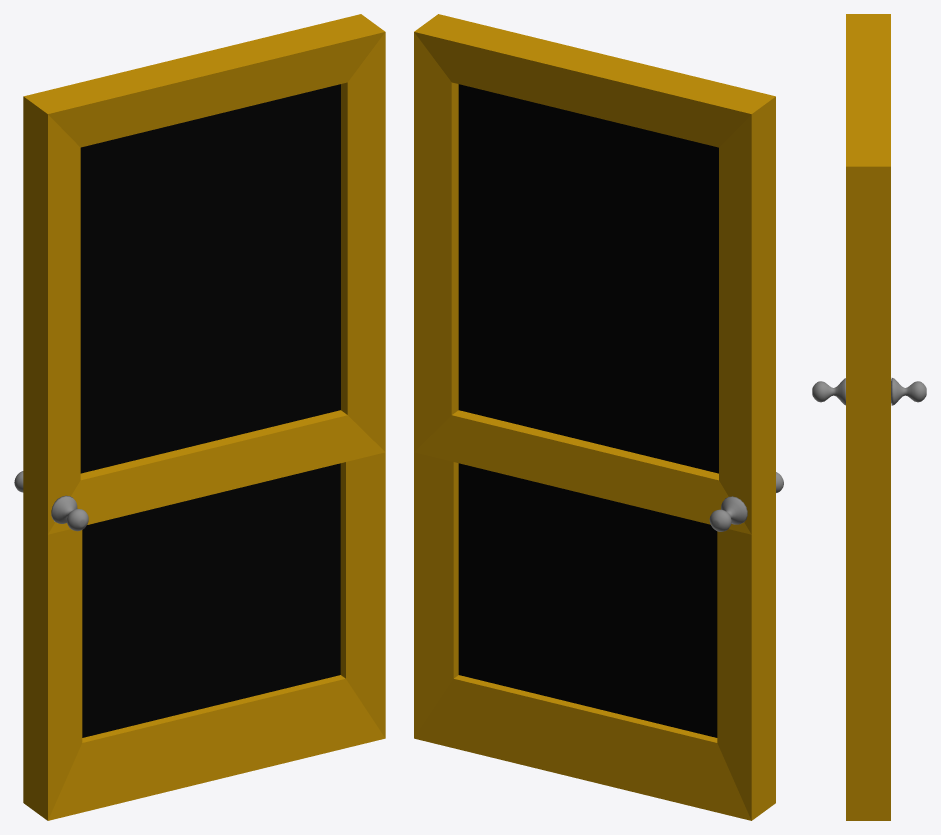
Rendered from door.fbx.
3 renders of one model, left to right at view 1: azimuth 30°, elevation 25°; view 2: azimuth 150°, elevation 25°; view 3: azimuth 270°, elevation 25°, orthographic. The views are drawn at different scales.
Parts seen in each view (by area): view 1: Door1, Door_Knob1; view 2: Door1, Door_Knob; view 3: Door1, Door_Knob, Door_Knob1.
Boxes of the visible parts, box(x1,y1,x2,y2) form: Door1: box(23, 14, 385, 820); Door_Knob1: box(51, 495, 88, 531); Door1: box(414, 14, 775, 820); Door_Knob: box(709, 496, 747, 531); Door1: box(846, 14, 890, 820); Door_Knob: box(891, 378, 926, 405); Door_Knob1: box(812, 378, 845, 405).
Bounding box in the file's own units: 2 × 4 × 0.633.
